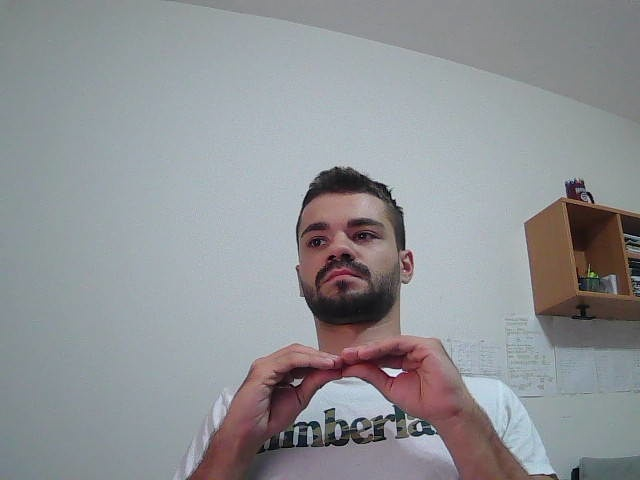b: (169, 326, 563, 480)
